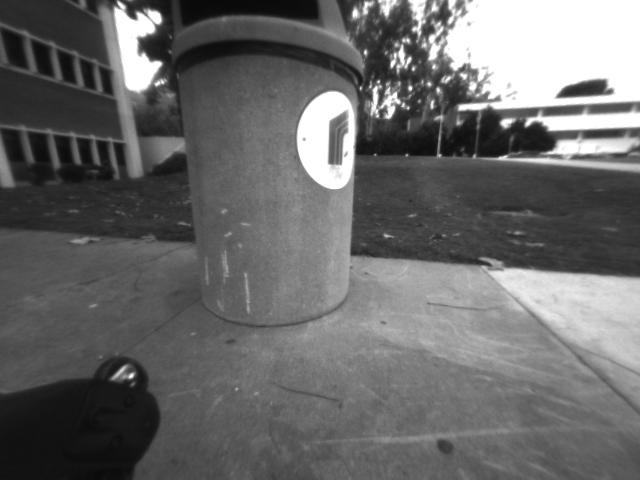trashcan: (153, 1, 387, 334)
